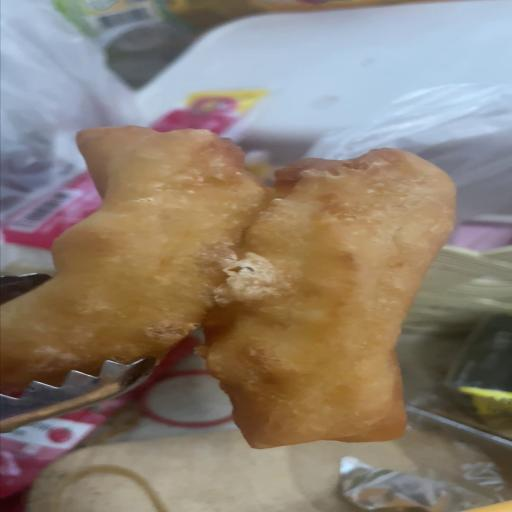street_golden_defect: (0, 135, 450, 448)
